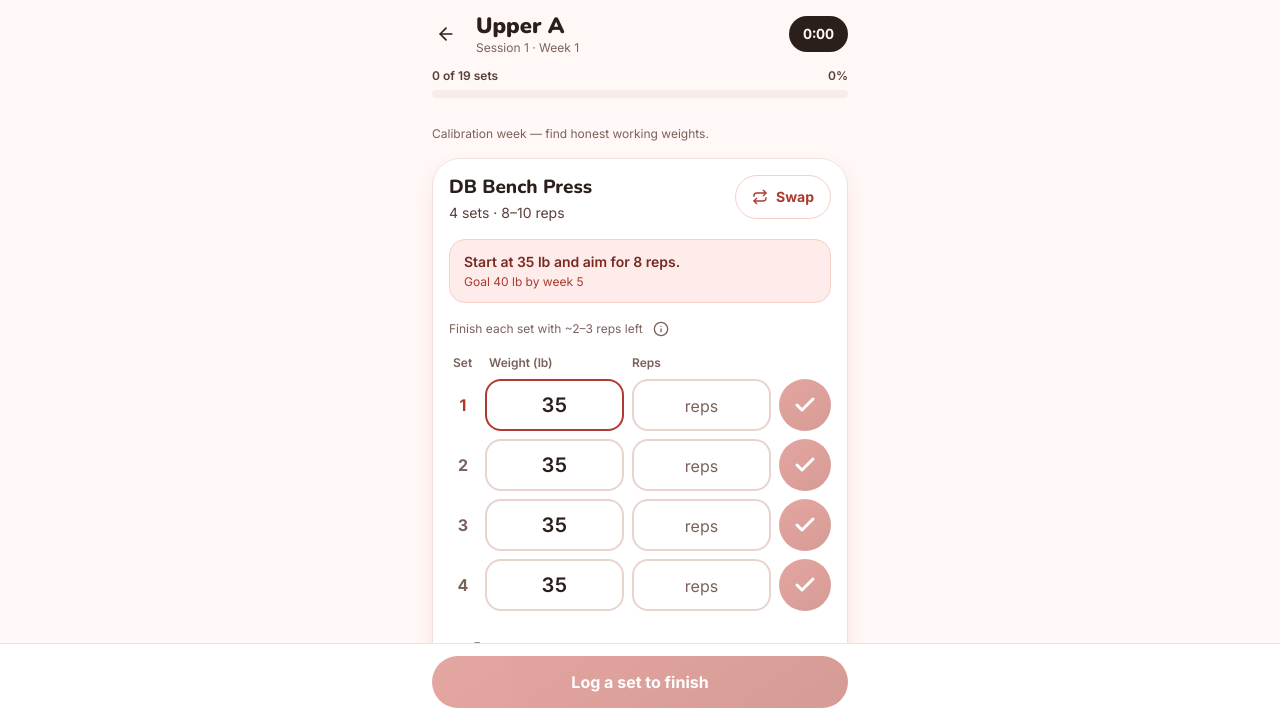
WorkoutPage › confirms a below-minimum finish in a dialog and saves it as partial
Expected: the button named "Log set 1" is shown, [779, 379, 831, 431]
In the number field named "Set 1 reps": (702, 405) [632, 379, 771, 431], type "10"
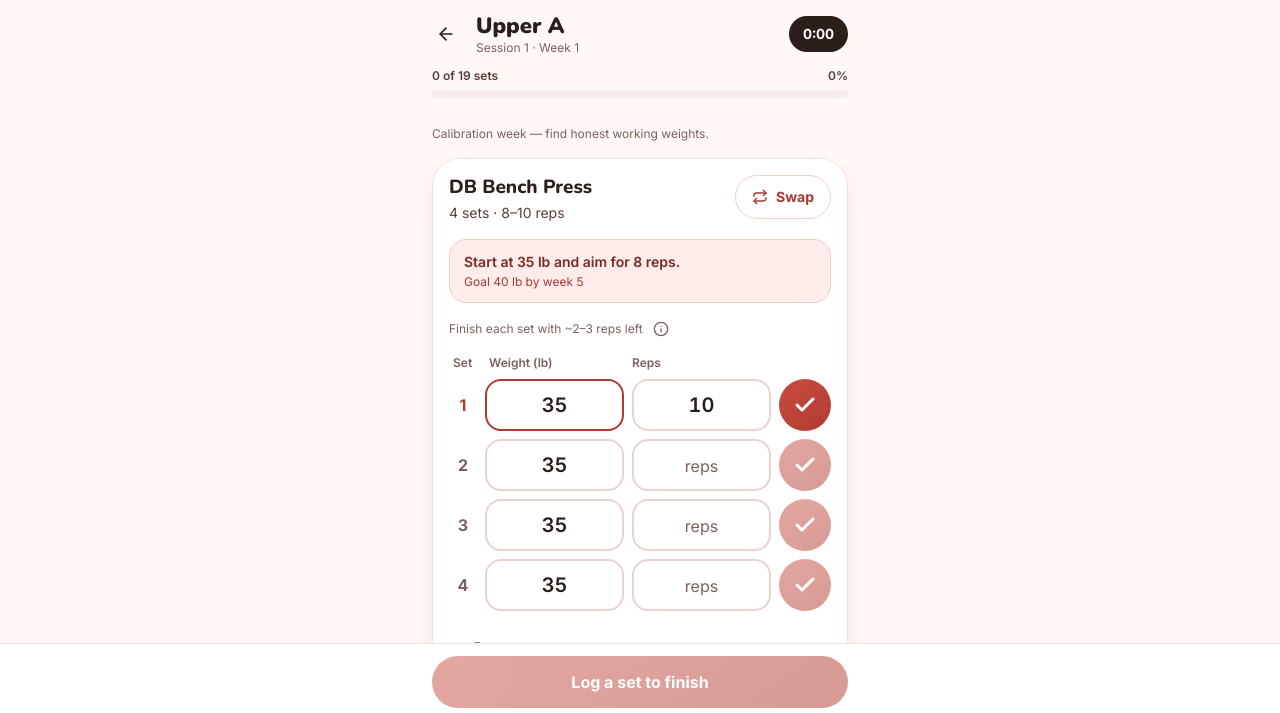
Click the button named "Log set 1": click(805, 405) [779, 379, 831, 431]
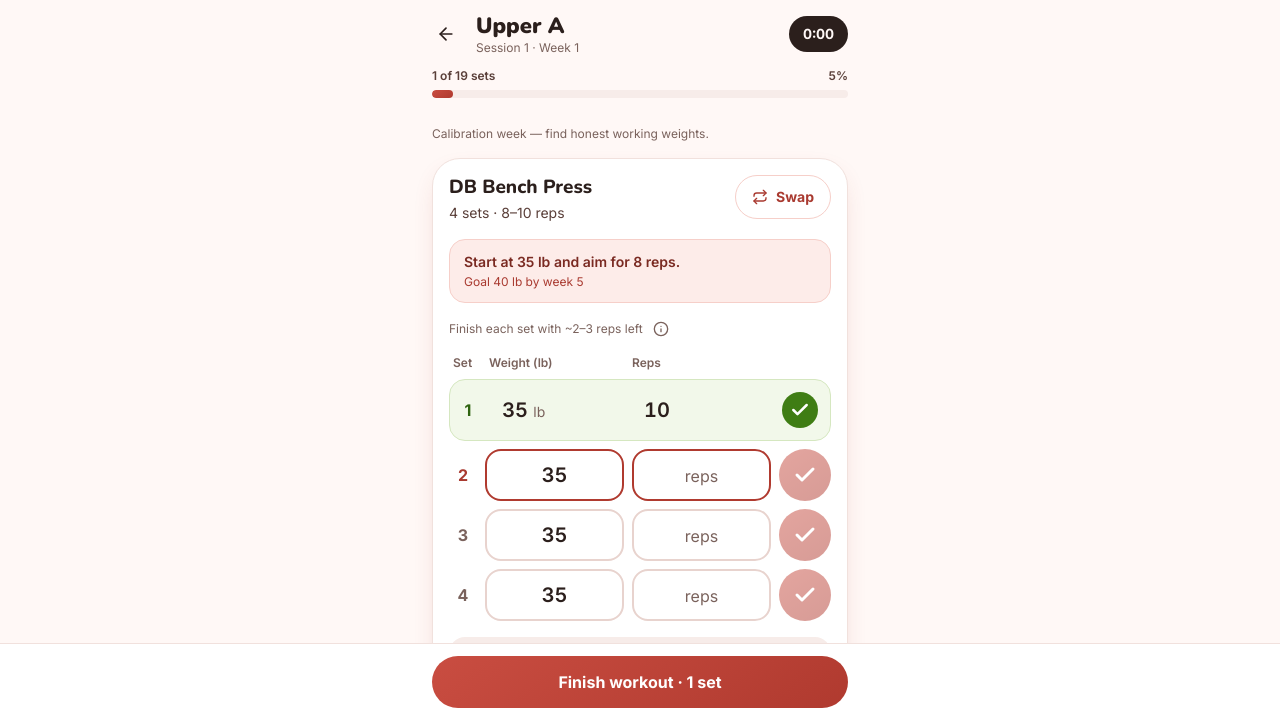
Click the button "Finish workout · 1 set": click(640, 682) [432, 656, 848, 708]
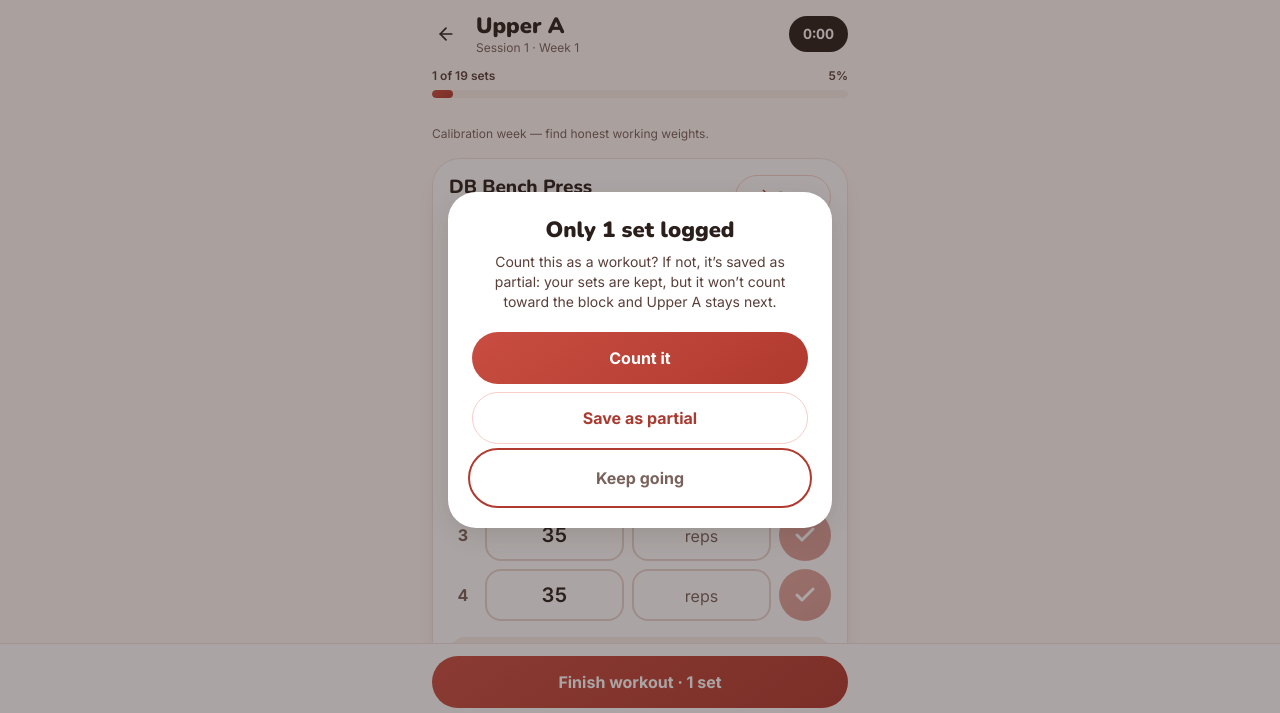
Click the button "Save as partial": click(640, 418) [472, 392, 808, 444]
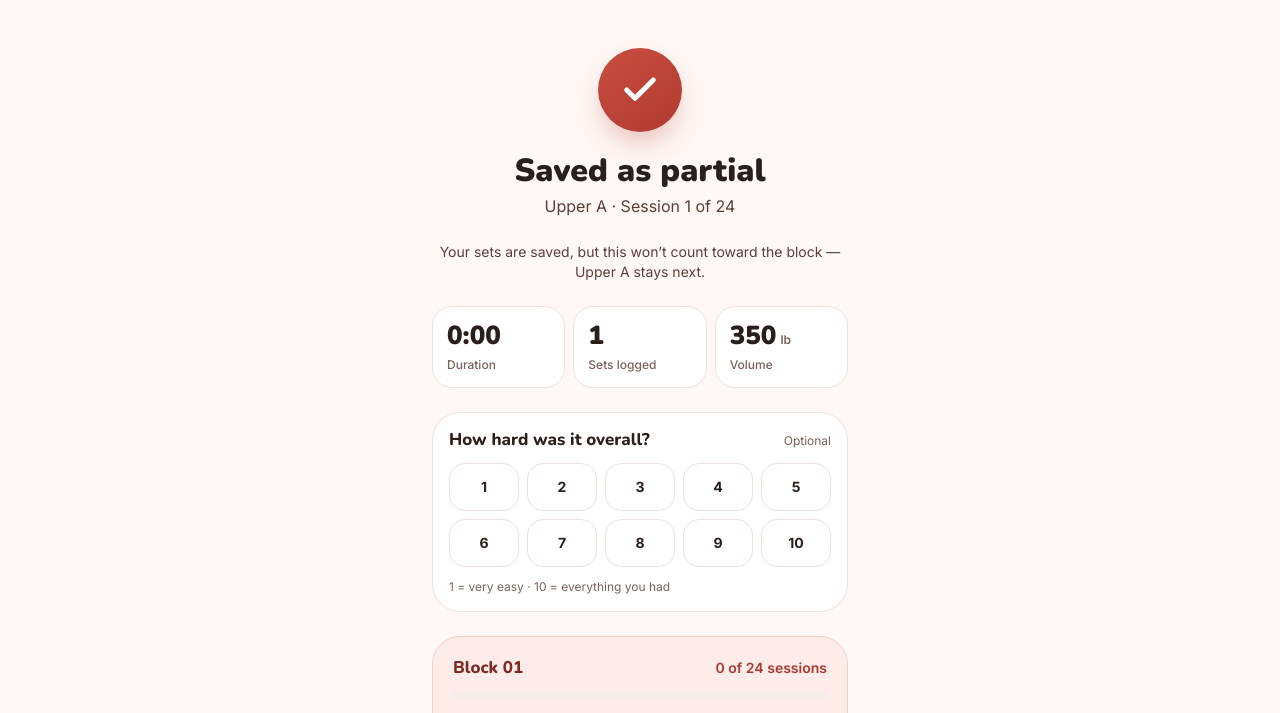
Expected: the heading "Saved as partial" is shown, [514, 152, 766, 190]
Expected: the text "won’t count toward the block — Upper A stays next" is shown, [432, 242, 848, 282]
